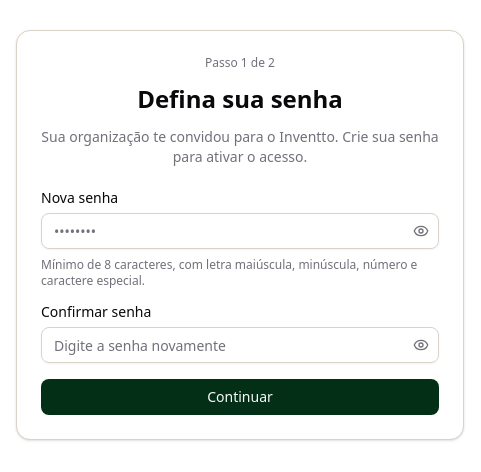
Scenario: FirstAccessPage › Passo 1 — definir senha › should show inline error when passwords do not match
Type "Senha@123!" into the password field labelled "Nova senha" at [240, 231], box [41,213,439,249]
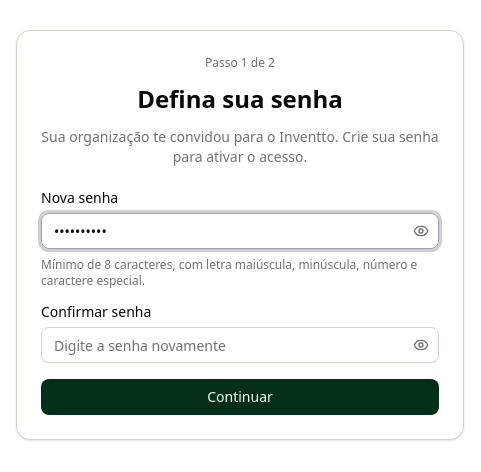
Type "SenhaDiferente@456!" into the password field labelled "Confirmar senha" at [240, 345], box [41,327,439,363]
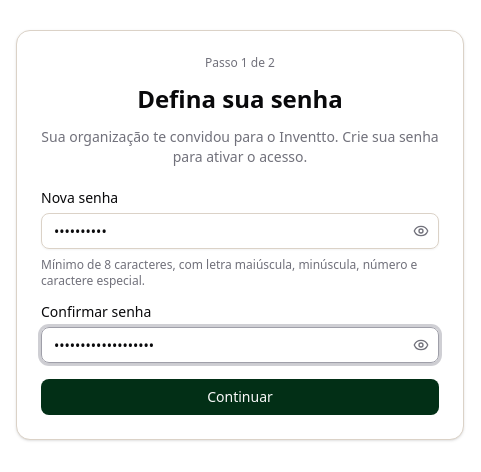
Click the button "Continuar" at [240, 397], box [41,379,439,415]
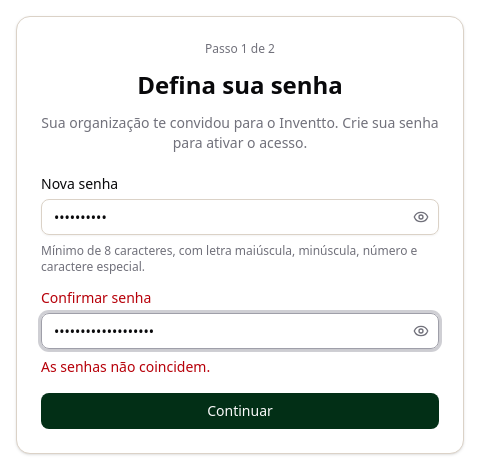
Check: the text "As senhas não coincidem." is shown, box [41,357,210,376]
